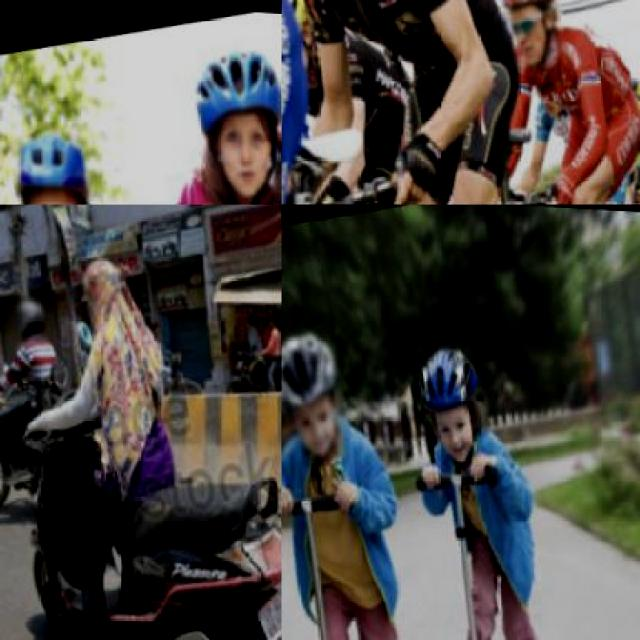With Helmet: (182, 39, 280, 203), (402, 330, 508, 470), (282, 315, 371, 471), (0, 119, 128, 203), (486, 0, 583, 74), (7, 289, 58, 349)
Without Helmet: (73, 248, 138, 322)
